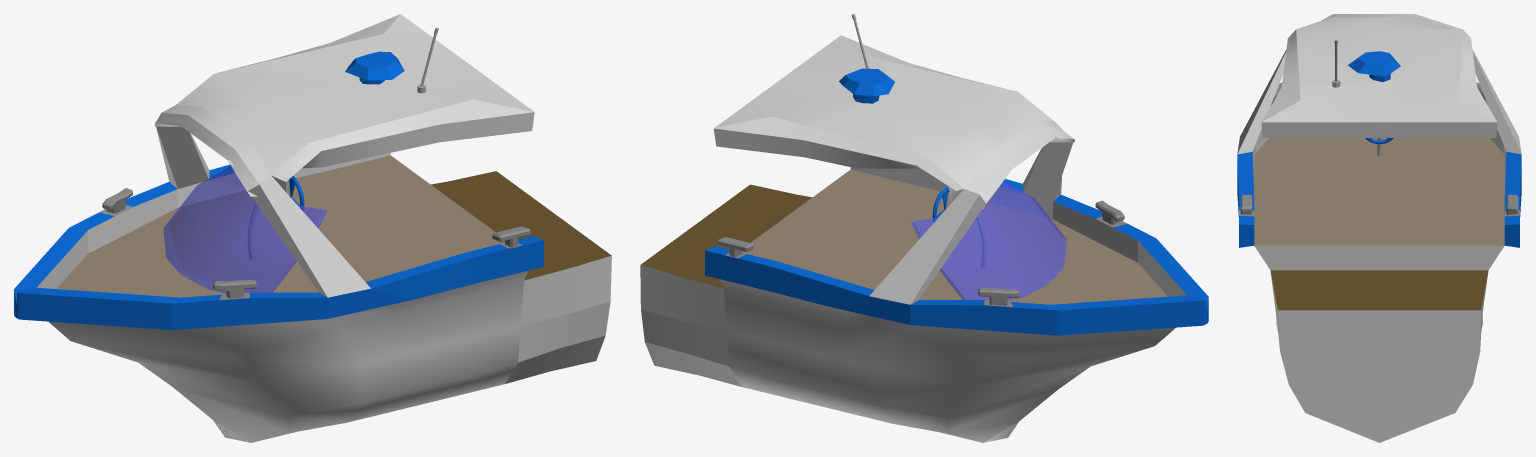
Rendered from boatMapped.fbx.
The picture shows the model from 3 angles, left to right: view 1: azimuth 30°, elevation 25°; view 2: azimuth 150°, elevation 25°; view 3: azimuth 270°, elevation 25°; orthographic projection. The views are drawn at different scales.
Parts seen in each view (by area): view 1: boat_Obj:pPlane3, GlassPane; view 2: boat_Obj:pPlane3, GlassPane; view 3: boat_Obj:pPlane3.
Boxes of the visible parts, x1,y1,x2,y2 form: boat_Obj:pPlane3: (14,14,611,442); GlassPane: (163,165,326,293); boat_Obj:pPlane3: (640,35,1208,442); GlassPane: (911,180,1066,300); boat_Obj:pPlane3: (1237,14,1521,442).
Bounding box in the file's own units: 7.11 × 4.97 × 3.7.
